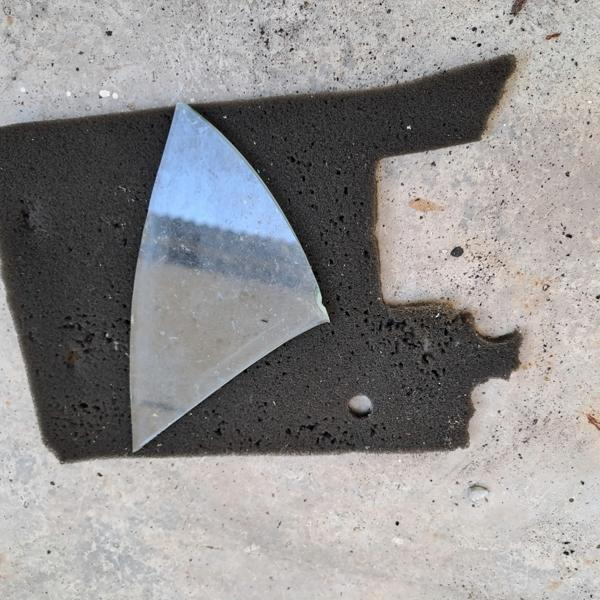Anorganik: (114, 99, 343, 453)
